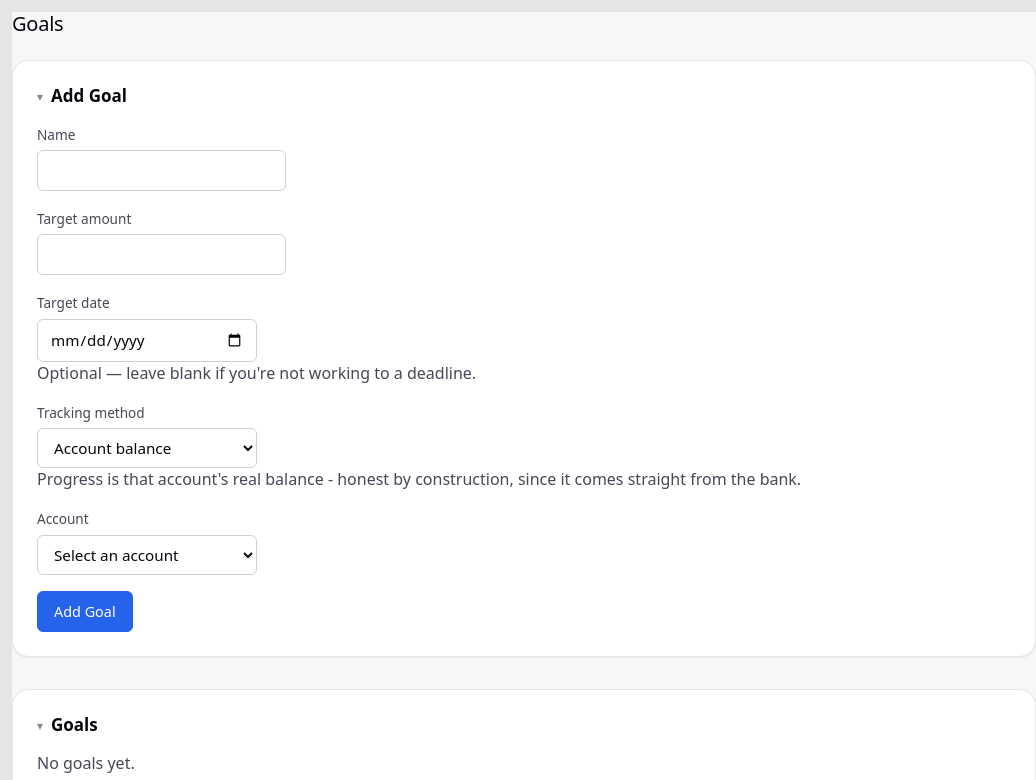
Scenario: GoalsPage › requires an allocated amount only in envelope mode
Expected: the field labelled "Allocated so far" is not shown
Select "Envelope" in the dropdown labelled "Tracking method" at (147, 448), box [37, 428, 257, 468]
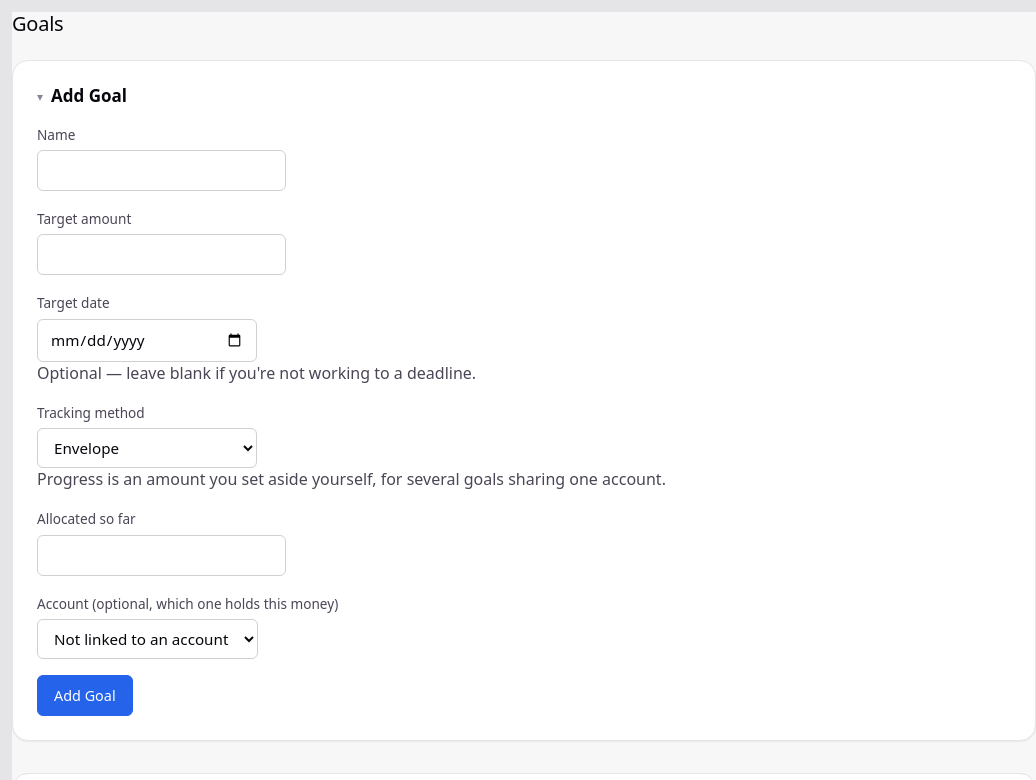
Expected: the number field labelled "Allocated so far" is shown, [37, 535, 286, 576]
